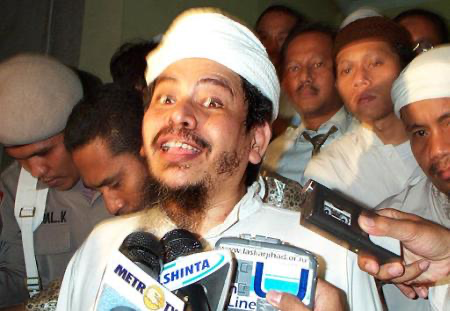Face: (134, 66, 272, 195), (76, 145, 163, 227), (334, 47, 404, 121), (7, 140, 79, 202), (408, 104, 449, 196), (282, 38, 331, 114), (256, 17, 296, 62)
